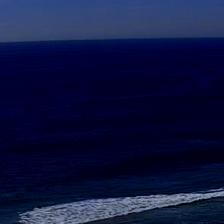surfer: (15, 194, 20, 198), (44, 186, 48, 190), (48, 181, 52, 184), (151, 178, 154, 182), (153, 192, 156, 196), (27, 188, 32, 190), (38, 205, 41, 208)
